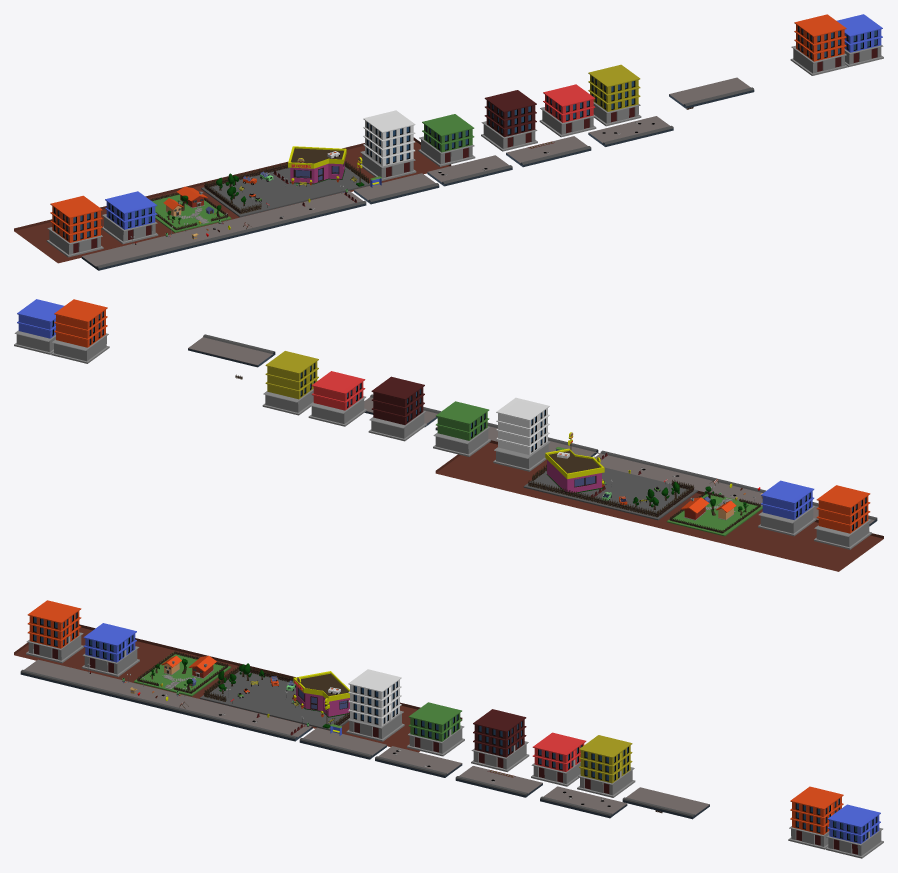
File: platform.fbx
3 views of the same model, one above another, from view 1: azimuth 30°, elevation 25°; view 2: azimuth 150°, elevation 25°; view 3: azimuth 330°, elevation 25° (orthographic). The views are drawn at different scales.
Parts seen in each view (by area): view 1: burger 1, zemin uzun, Cube.036, Cube.002, beyaz bina 4 kat, bordo bina 3 kat, turuncu bina 3 kat, basrı bina 4 kat, mabi bina 3 kat, yesil bina 2 kat, kırmızı bina 3 kat, bahceli ev (+5 smaller); view 2: Cube.002, burger 1, Cube.036, beyaz bina 4 kat, bordo bina 3 kat, turuncu bina 3 kat, zemin uzun, basrı bina 4 kat, bahceli ev, mabi bina 3 kat, kırmızı bina 3 kat, yesil bina 2 kat (+1 smaller); view 3: burger 1, zemin uzun, Cube.036, Cube.002, beyaz bina 4 kat, turuncu bina 3 kat, bordo bina 3 kat, basrı bina 4 kat, bahceli ev, mabi bina 3 kat, yesil bina 2 kat, kırmızı bina 3 kat (+5 smaller).
Boxes of the visible parts, bbox=[...] form: burger 1: bbox=[201, 146, 370, 217]; zemin uzun: bbox=[81, 191, 367, 270]; Cube.036: bbox=[790, 14, 883, 75]; Cube.002: bbox=[14, 137, 451, 263]; beyaz bina 4 kat: bbox=[360, 110, 416, 180]; bordo bina 3 kat: bbox=[481, 90, 537, 151]; turuncu bina 3 kat: bbox=[46, 195, 103, 257]; basrı bina 4 kat: bbox=[588, 64, 641, 126]; mabi bina 3 kat: bbox=[101, 191, 158, 244]; yesil bina 2 kat: bbox=[418, 114, 475, 166]; kırmızı bina 3 kat: bbox=[539, 84, 596, 137]; bahceli ev: bbox=[149, 186, 231, 232]; Cube.002: bbox=[435, 440, 883, 571]; burger 1: bbox=[523, 432, 697, 520]; Cube.036: bbox=[14, 299, 109, 363]; beyaz bina 4 kat: bbox=[493, 397, 550, 471]; bordo bina 3 kat: bbox=[368, 376, 426, 441]; turuncu bina 3 kat: bbox=[814, 485, 871, 549]; zemin uzun: bbox=[595, 450, 877, 526]; basrı bina 4 kat: bbox=[262, 351, 318, 415]; bahceli ev: bbox=[666, 486, 762, 536]; mabi bina 3 kat: bbox=[758, 480, 816, 536]; kırmızı bina 3 kat: bbox=[308, 371, 366, 426]; yesil bina 2 kat: bbox=[433, 401, 490, 456]; burger 1: bbox=[200, 663, 349, 730]; zemin uzun: bbox=[20, 659, 312, 741]; Cube.036: bbox=[788, 786, 883, 858]; Cube.002: bbox=[14, 624, 462, 752]; beyaz bina 4 kat: bbox=[346, 669, 404, 741]; turuncu bina 3 kat: bbox=[26, 600, 83, 663]; bordo bina 3 kat: bbox=[471, 709, 529, 772]; basrı bina 4 kat: bbox=[577, 735, 635, 797]; bahceli ev: bbox=[134, 651, 231, 696]; mabi bina 3 kat: bbox=[81, 623, 139, 676]; yesil bina 2 kat: bbox=[407, 702, 464, 756]; kırmızı bina 3 kat: bbox=[531, 732, 586, 786].
Bounding box in the file's own units: 32053 × 1918 × 4101.
Materials: 41 (1 with a texture image).
